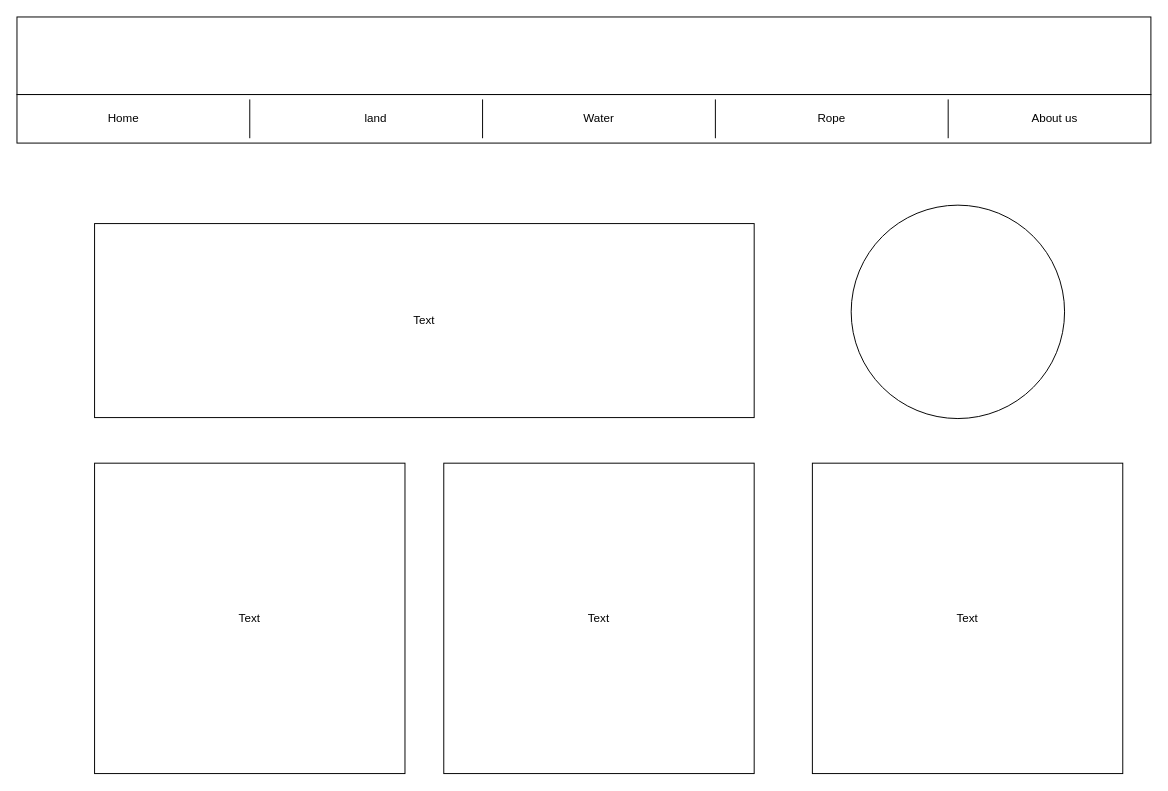
This 1168x791 diagram has some shape labels left out. The shapes that lost their labels are listed below. From the top down, each one's box as (x1, y1, x2, y2) in pixels, then its label:
(16, 16, 1151, 95): Title
(850, 204, 1065, 419): Image
